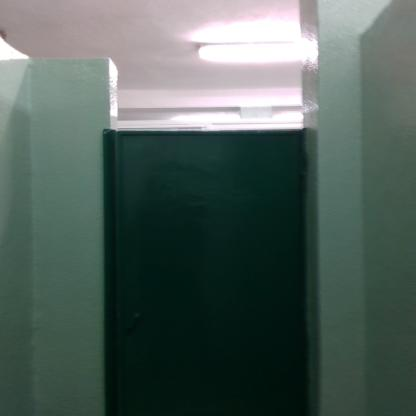closed: (94, 76, 334, 416)
